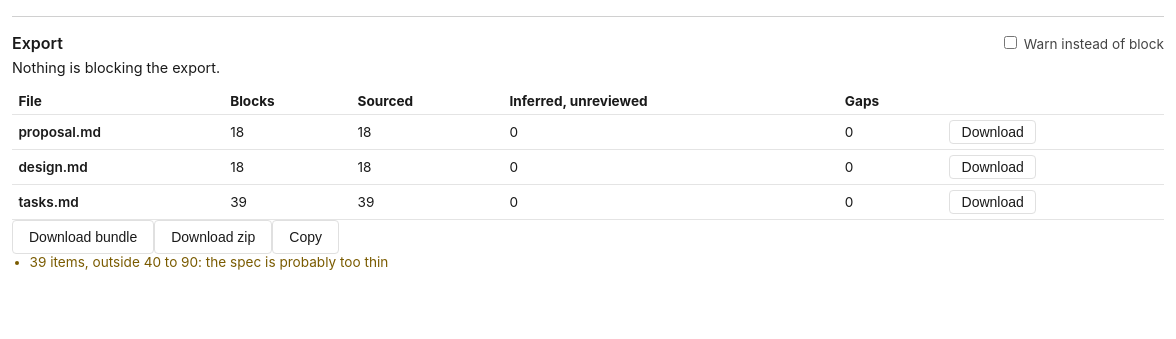
ExportGateComponent › should save the bundle and the zip under their own names
Click the button with class "download-bundle". click: (83, 237)
box: [12, 220, 154, 254]
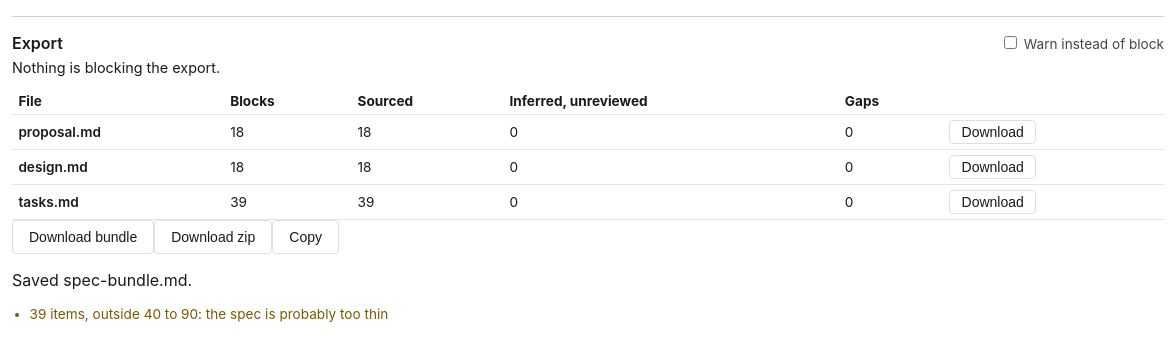
Result: the text "Saved spec-bundle.md." is shown at [12, 270, 192, 290]
